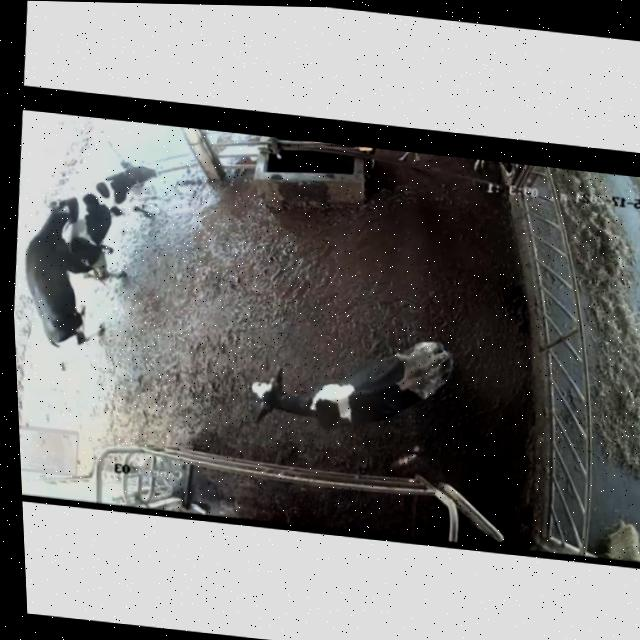ride: (8, 179, 114, 358)
stand: (231, 309, 488, 454), (65, 154, 163, 286)
